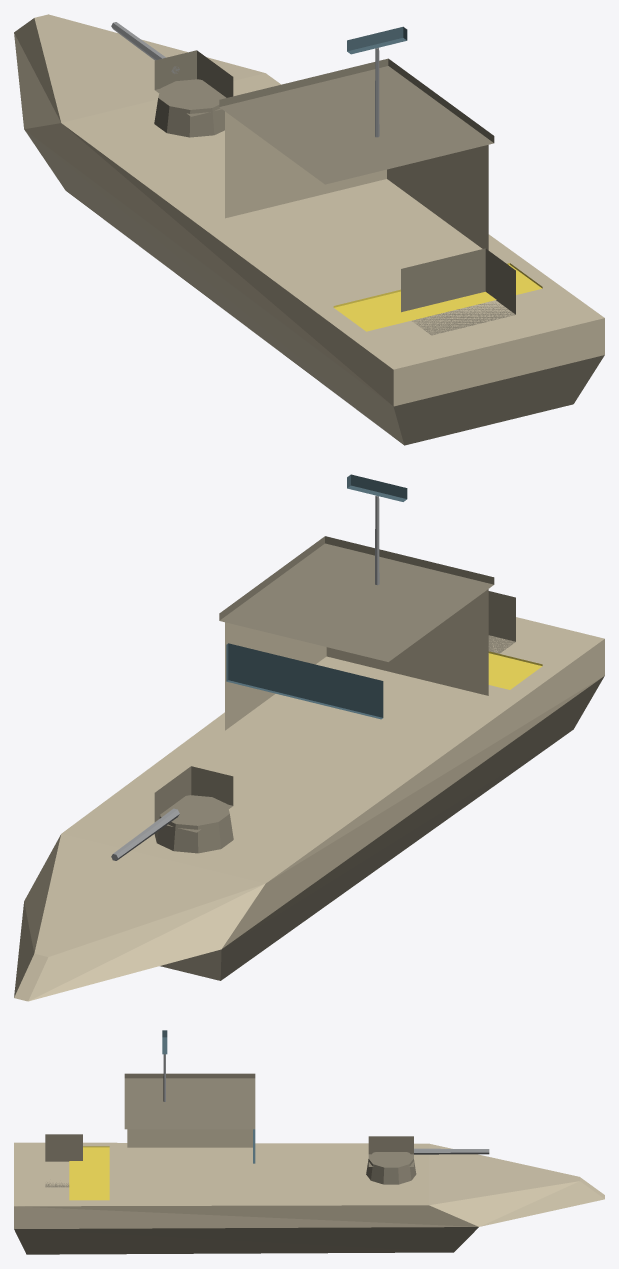
Rendered from industrial_patrol_boat.glb.
3 renders of one model, top to bottom at view 1: azimuth 30°, elevation 25°; view 2: azimuth 150°, elevation 25°; view 3: azimuth 270°, elevation 25°, orthographic. The views are drawn at different scales.
Visible parts, largest first — view 1: industrial_patrol_boat; view 2: industrial_patrol_boat; view 3: industrial_patrol_boat.
Boxes of the visible parts, left/top/right/bottom form: industrial_patrol_boat: left=14, top=14, right=604, bottom=445; industrial_patrol_boat: left=14, top=474, right=604, bottom=1001; industrial_patrol_boat: left=14, top=1030, right=604, bottom=1254.
Bounding box in the file's own units: 6 × 8.35 × 23.5.
